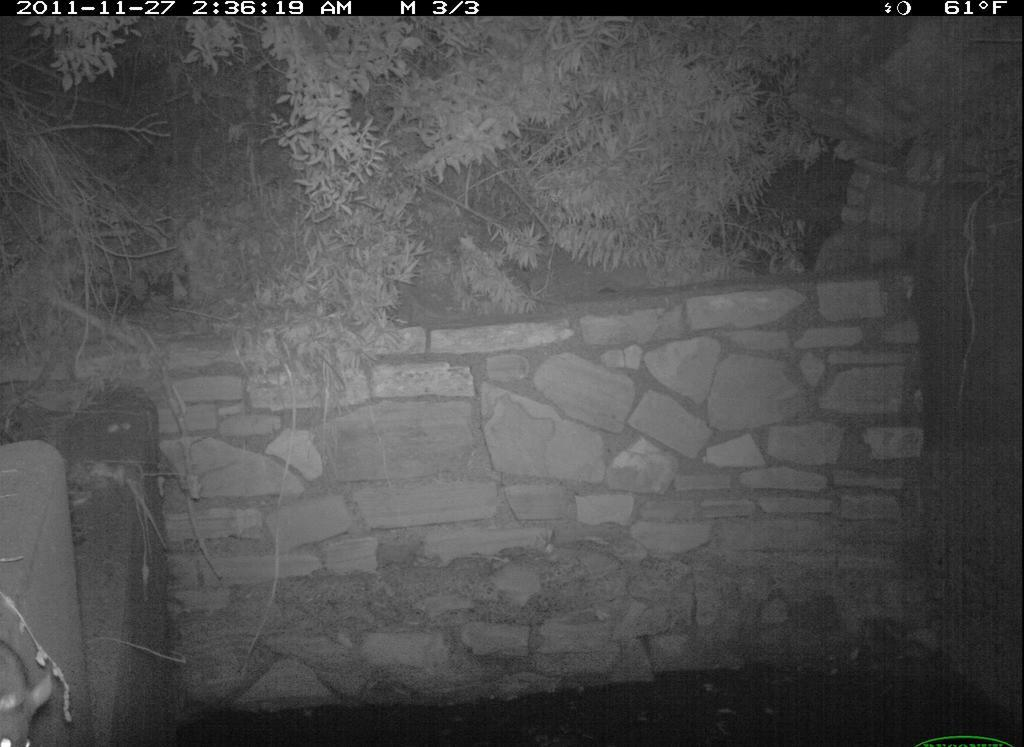rodent: (3, 612, 67, 747)
